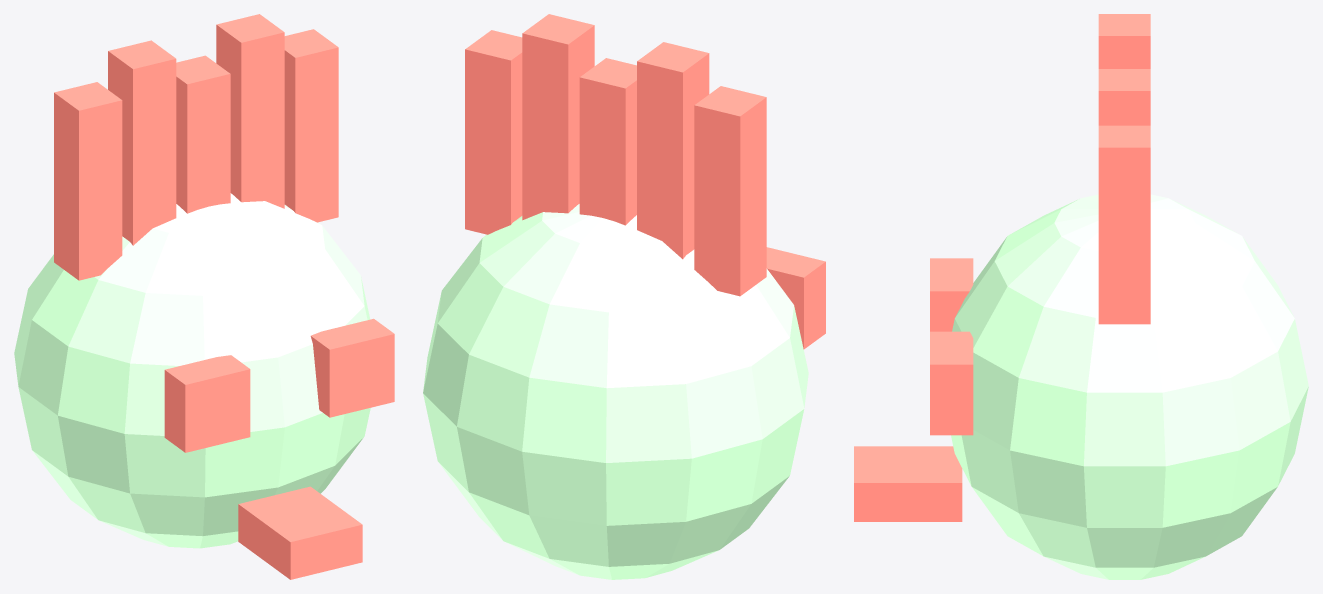
File: mohawk_head.glb
3 renders of one model, left to right at view 1: azimuth 30°, elevation 25°; view 2: azimuth 150°, elevation 25°; view 3: azimuth 270°, elevation 25°, orthographic. The views are drawn at different scales.
Visible parts, largest first — view 1: SB_MohHead, SB_Spike0, SB_Spike1, SB_Spike3, SB_Spike4, SB_MohTongue, SB_Spike2, SB_MohEyeL, SB_MohEyeR; view 2: SB_MohHead, SB_Spike0, SB_Spike1, SB_Spike3, SB_Spike4, SB_Spike2, SB_MohEyeL; view 3: SB_MohHead, SB_Spike4, SB_MohTongue, SB_MohEyeR, SB_Spike3, SB_Spike1, SB_MohEyeL.
Boxes of the visible parts, left/top/right/bottom form: SB_MohHead: left=14, top=193, right=370, bottom=548; SB_Spike0: left=54, top=82, right=122, bottom=280; SB_Spike1: left=108, top=40, right=176, bottom=245; SB_Spike3: left=216, top=14, right=284, bottom=208; SB_Spike4: left=284, top=29, right=338, bottom=222; SB_MohTongue: left=238, top=486, right=362, bottom=579; SB_Spike2: left=176, top=55, right=230, bottom=213; SB_MohEyeL: left=164, top=355, right=250, bottom=452; SB_MohEyeR: left=310, top=318, right=394, bottom=417; SB_MohHead: left=423, top=204, right=808, bottom=579; SB_Spike0: left=694, top=86, right=766, bottom=296; SB_Spike1: left=637, top=42, right=709, bottom=259; SB_Spike3: left=522, top=14, right=594, bottom=220; SB_Spike4: left=465, top=30, right=522, bottom=234; SB_Spike2: left=579, top=58, right=636, bottom=225; SB_MohEyeL: left=766, top=247, right=825, bottom=349; SB_MohHead: left=951, top=194, right=1308, bottom=579; SB_Spike4: left=1098, top=125, right=1150, bottom=324; SB_MohTongue: left=854, top=446, right=962, bottom=521; SB_MohEyeR: left=930, top=331, right=973, bottom=435; SB_Spike3: left=1098, top=69, right=1150, bottom=125; SB_Spike1: left=1098, top=14, right=1150, bottom=68; SB_MohEyeL: left=930, top=258, right=973, bottom=331.
Size of the model in its own units: 0.8774 by 1.3 by 1.05.
